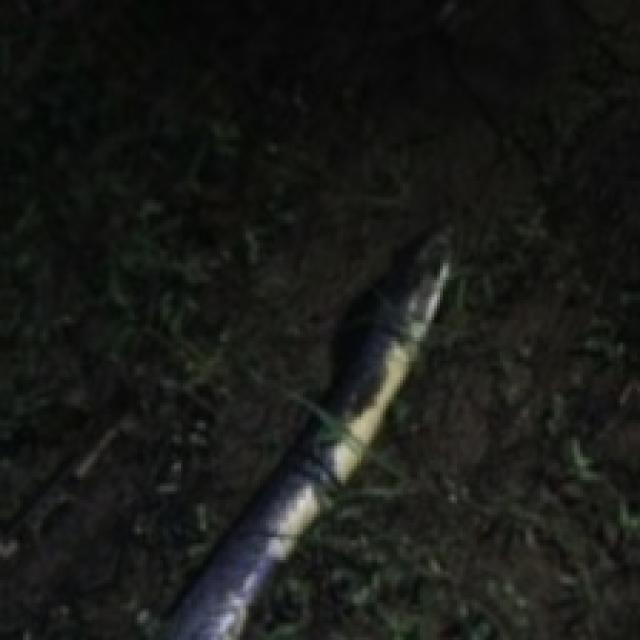king cobra: (169, 226, 449, 637), (169, 229, 449, 637), (3, 420, 137, 620)
